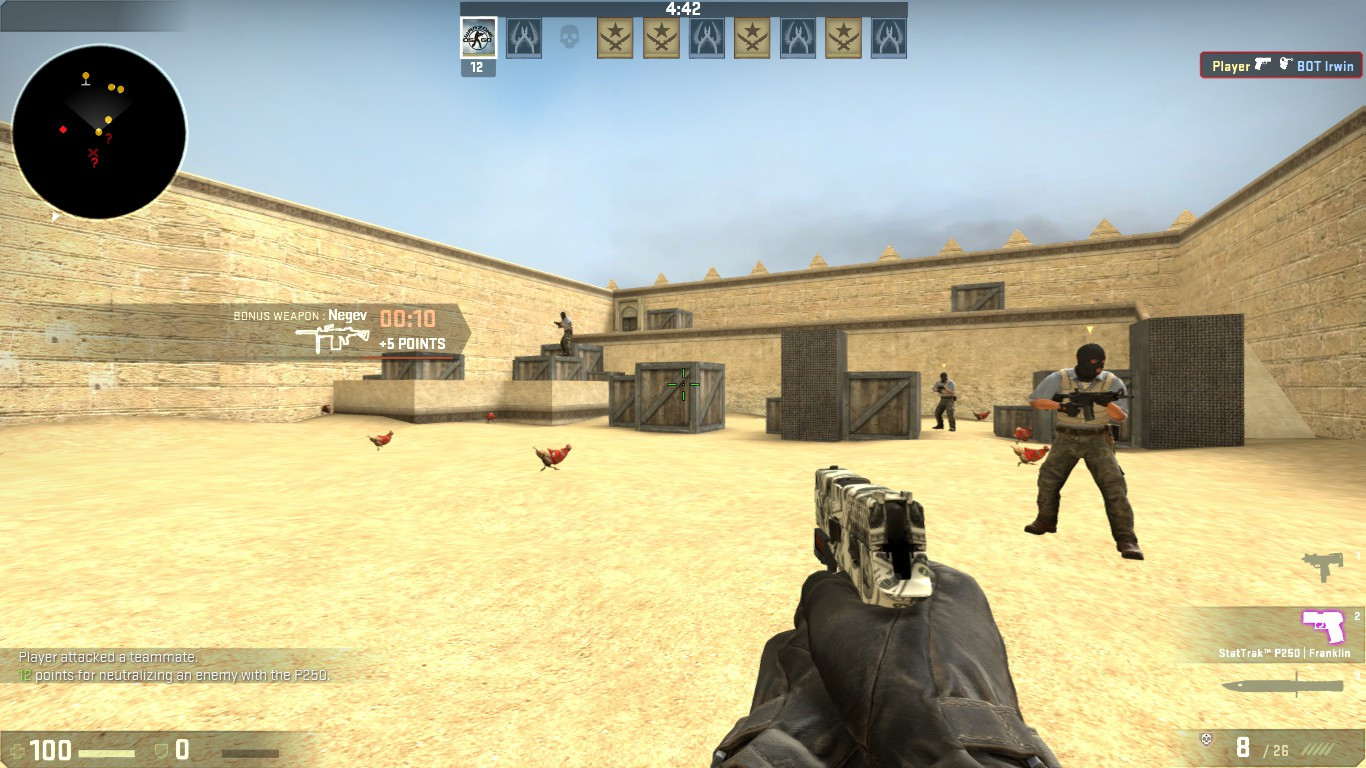t: (1035, 344, 1138, 540), (928, 370, 961, 432), (554, 312, 574, 352)
th: (1070, 345, 1113, 384), (556, 311, 570, 322), (938, 371, 948, 383)
